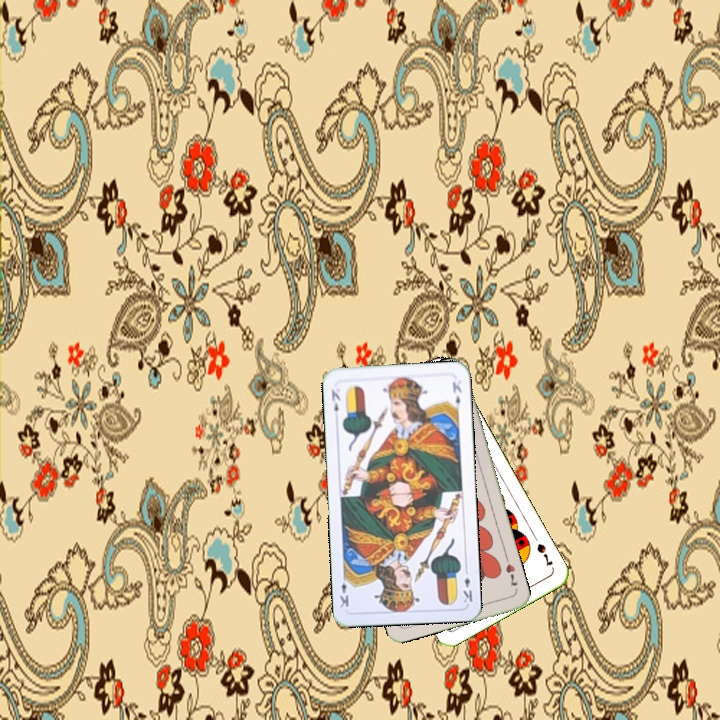EK: (459, 564, 475, 605), (327, 386, 343, 414)
H7: (501, 560, 520, 589)
S7: (533, 539, 556, 569)
